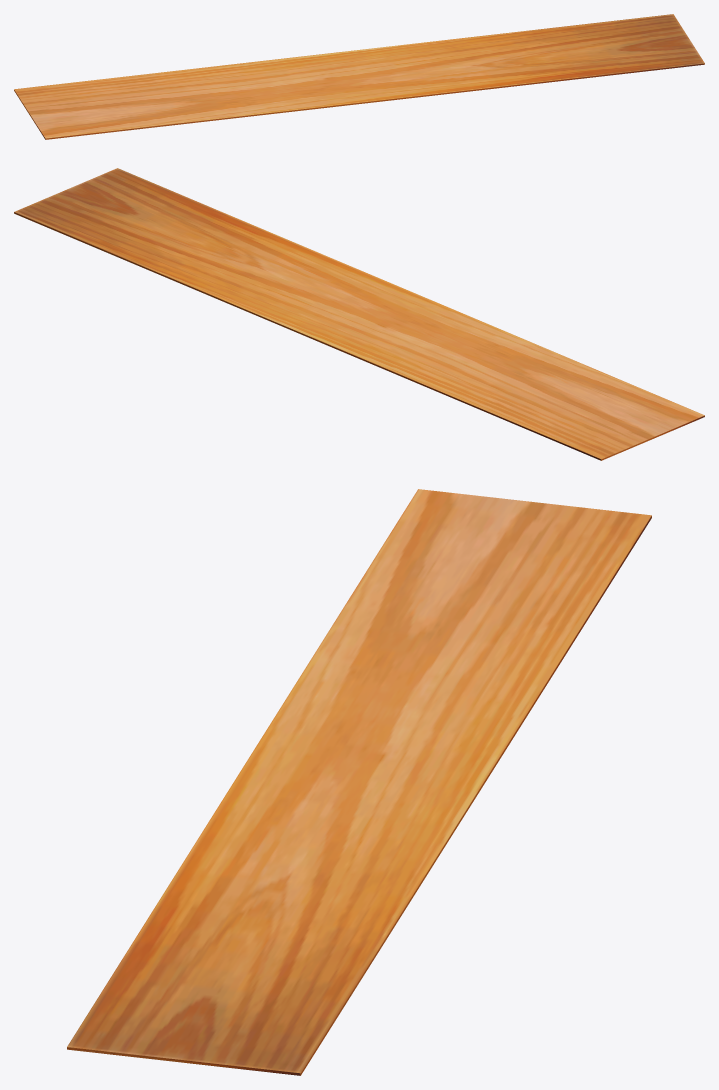
The picture shows the model from 3 angles, top to bottom: view 1: azimuth 30°, elevation 25°; view 2: azimuth 150°, elevation 25°; view 3: azimuth 270°, elevation 25°; orthographic projection. The views are drawn at different scales.
Visible parts, largest first — view 1: Joint_0_Object_0; view 2: Joint_0_Object_0; view 3: Joint_0_Object_0.
Part boxes in pixels (bbox=[...]): Joint_0_Object_0: bbox=[14, 14, 704, 139]; Joint_0_Object_0: bbox=[14, 168, 704, 460]; Joint_0_Object_0: bbox=[67, 489, 651, 1075].
Bounding box in the file's own units: 2760 × 5.8 × 1168.
Materials: 1 (1 with a texture image).
